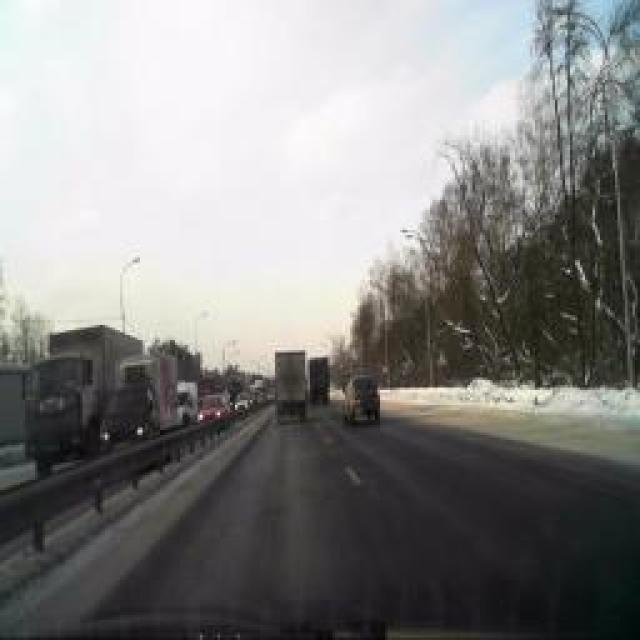sign: (438, 349, 448, 366)
